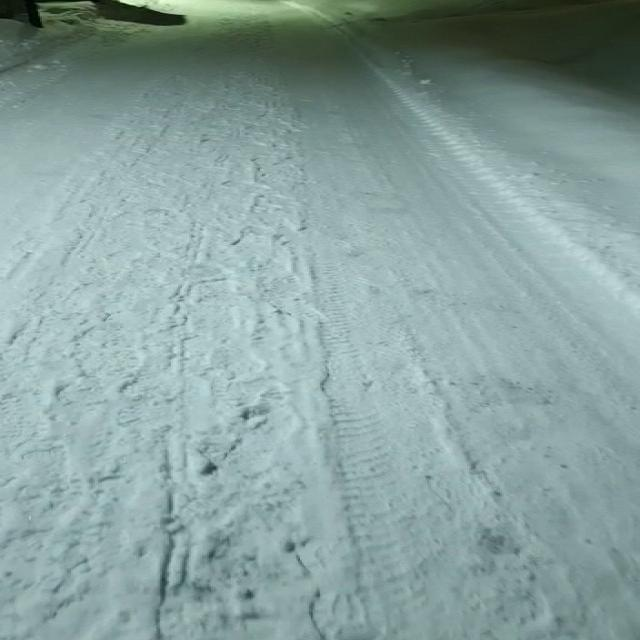path: (0, 0, 640, 640)
